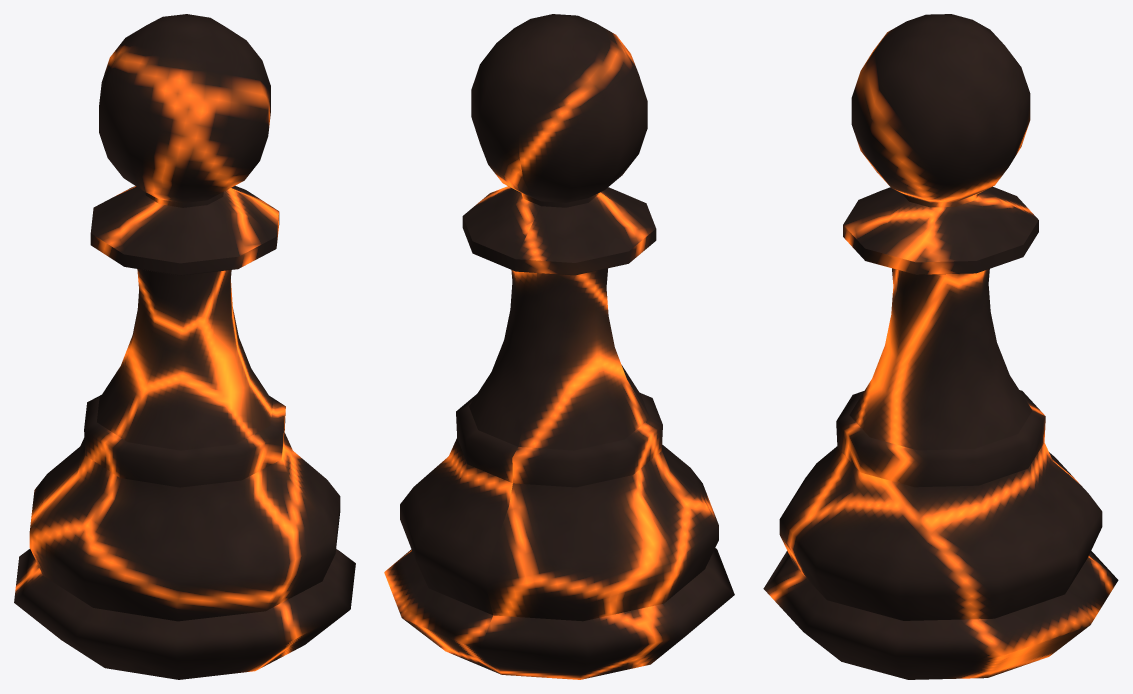
Rendered from item-0-5.glb.
3 views of the same model, side by side, from view 1: azimuth 30°, elevation 25°; view 2: azimuth 150°, elevation 25°; view 3: azimuth 270°, elevation 25° (orthographic).
Parts seen in each view (by area): view 1: BlackPawn; view 2: BlackPawn; view 3: BlackPawn.
Boxes of the visible parts, x1,y1,x2,y2 form: BlackPawn: (14,14,355,679); BlackPawn: (384,14,734,679); BlackPawn: (763,14,1118,679).
Size of the model in its own units: 0.0889 by 0.1731 by 0.0918.
Materials: 1 (1 with a texture image).
